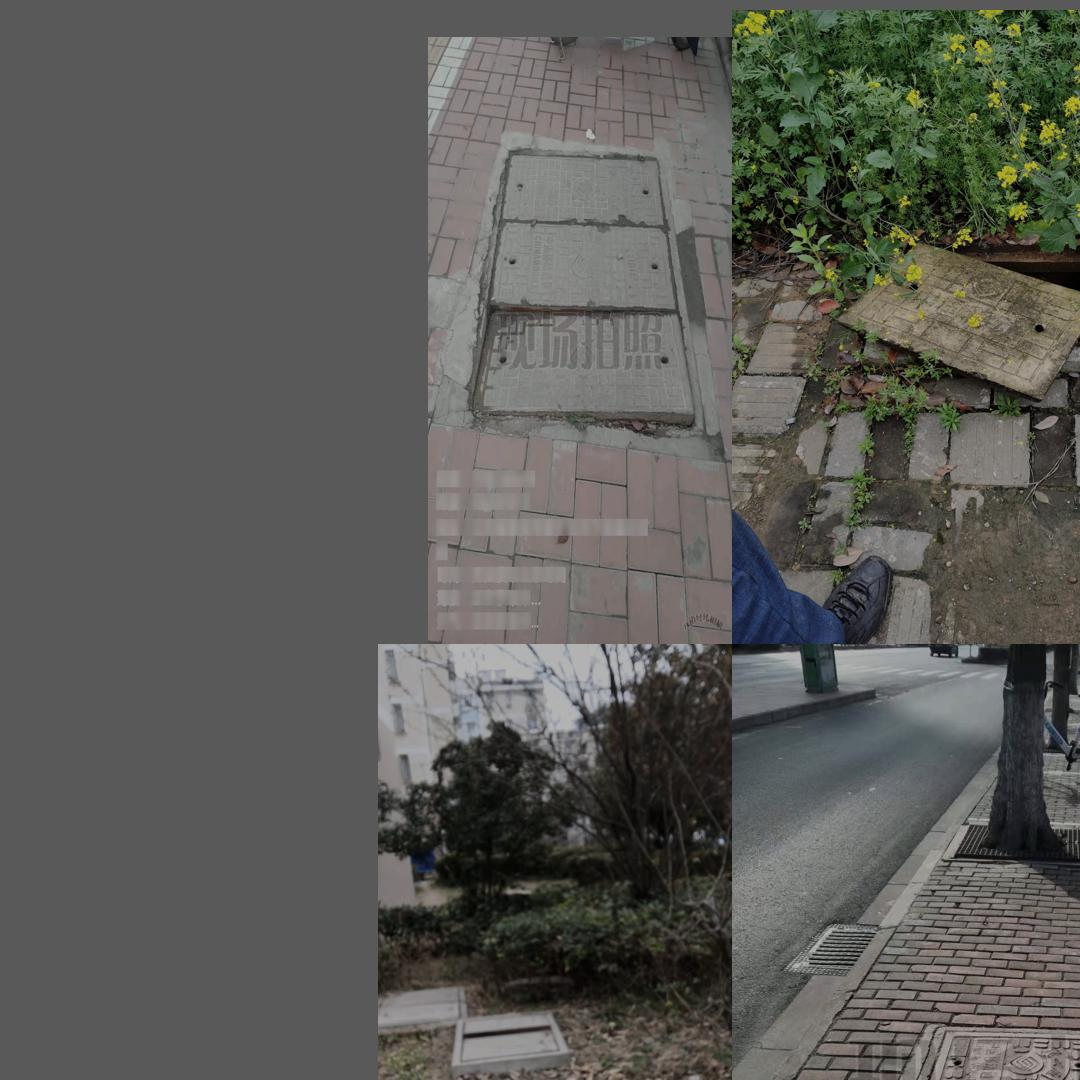good: (378, 981, 468, 1038)
uncovered: (467, 141, 704, 438), (836, 231, 1080, 399), (872, 1028, 1080, 1080), (451, 1008, 571, 1070)
